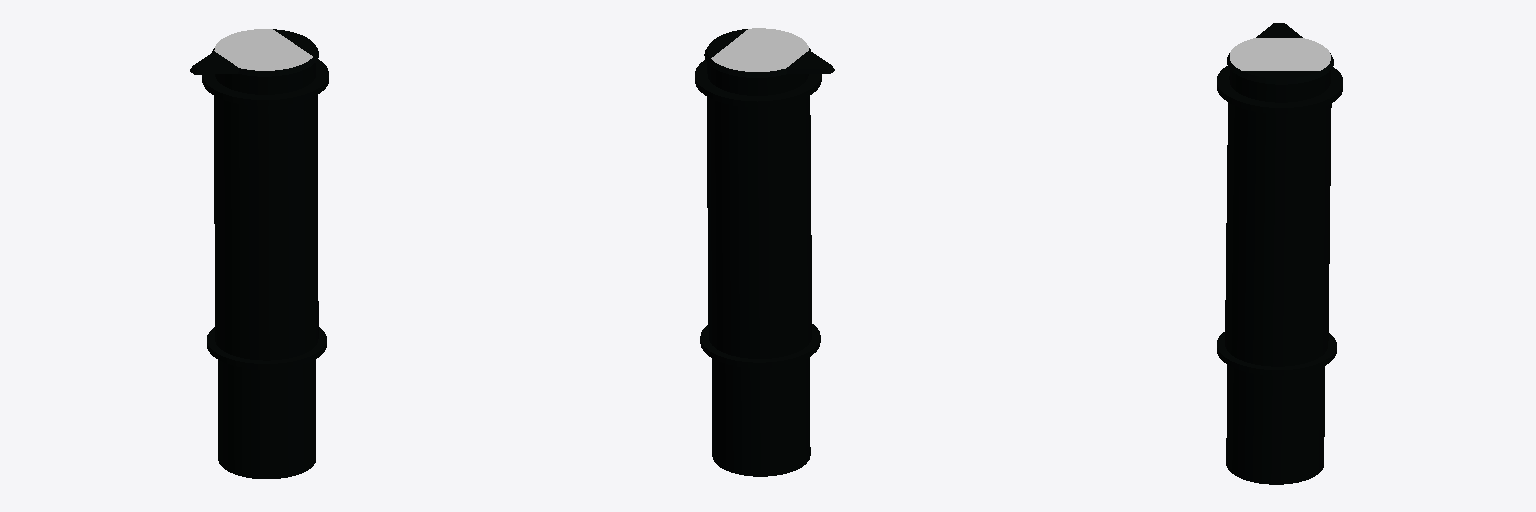
Rendered from DSOC.obj.
The picture shows the model from 3 angles: view 1: azimuth 30°, elevation 25°; view 2: azimuth 150°, elevation 25°; view 3: azimuth 270°, elevation 25°; orthographic projection.
Parts seen in each view (by area): view 1: Cylinder.009; view 2: Cylinder.009; view 3: Cylinder.009.
Boxes of the visible parts, x1,y1,x2,y2 form: Cylinder.009: [190, 29, 328, 478]; Cylinder.009: [695, 28, 834, 476]; Cylinder.009: [1217, 23, 1342, 484].
Bounding box in the file's own units: 0.7187 × 2.17 × 0.6117.